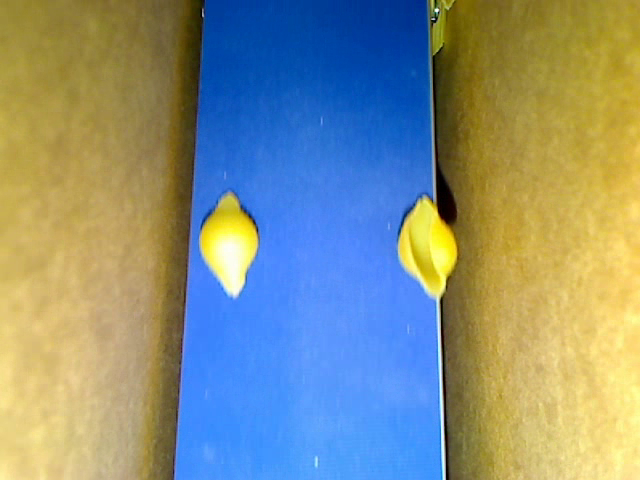penne: (430, 1, 445, 56), (436, 1, 455, 11)
shell: (196, 188, 257, 300), (395, 196, 456, 300)
